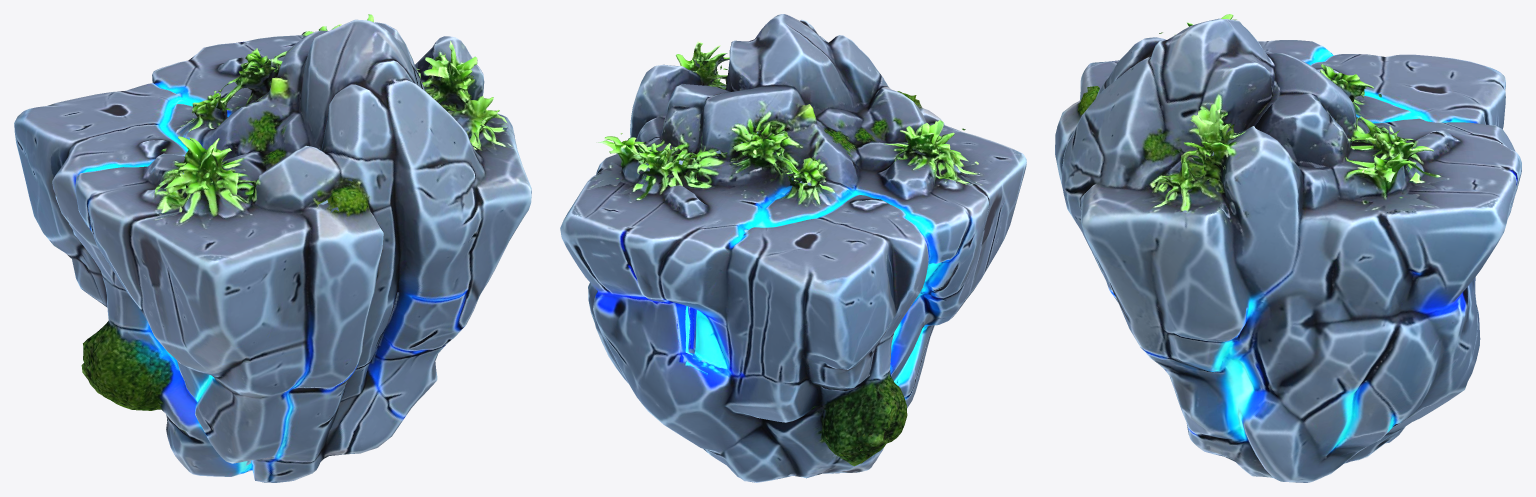
The model's file is floating_island_luminosity (1).glb.
3 renders of one model, left to right at view 1: azimuth 30°, elevation 25°; view 2: azimuth 150°, elevation 25°; view 3: azimuth 270°, elevation 25°, orthographic. The views are drawn at different scales.
Visible parts, largest first — view 1: Object_4; view 2: Object_4; view 3: Object_4.
Boxes of the visible parts, box(x1,y1,x2,y2) form: Object_4: box(14, 14, 531, 482); Object_4: box(560, 14, 1026, 482); Object_4: box(1055, 14, 1521, 482).
Bounding box in the file's own units: 1.71 × 1.9 × 1.76.
Materials: 1 (1 with a texture image).
